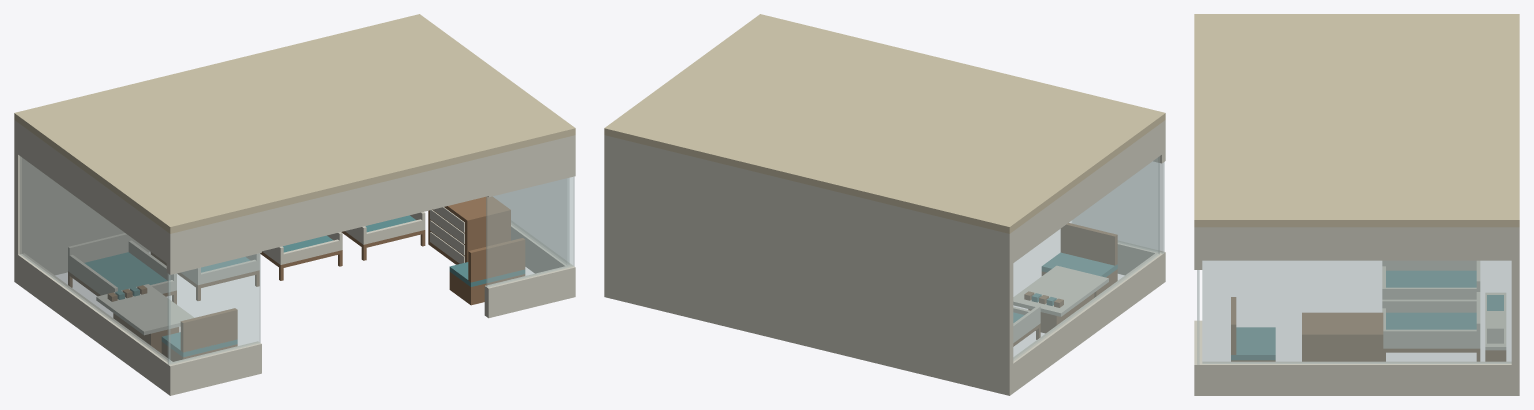
The model's file is FAMILY_CHILDCARE_r001.glb.
The picture shows the model from 3 angles, left to right: view 1: azimuth 30°, elevation 25°; view 2: azimuth 150°, elevation 25°; view 3: azimuth 270°, elevation 25°; orthographic projection. The views are drawn at different scales.
Parts seen in each view (by area): view 1: G2F_AcousticCeiling, G2F_WestSightlineGlass, G2F_DoorHeader, G2F_ArrivalLeftGlass, G2F_ArrivalRightGlass, G2F_ForeAcousticWall, G2F_WestPlinth, G2F_WestHighAcoustic, G2F_ArrivalLeftHeader, G2F_EastSightlineGlass, G2F_ArrivalRightHeader, G2F_ArrivalLeftPlinth (+17 smaller); view 2: G2F_ForeAcousticWall, G2F_AcousticCeiling, G2F_WestSightlineGlass, G2F_WestPlinth, G2F_WestHighAcoustic, G2F_ArrivalLeftGlass, G2F_LearningTop, G2F_Caregiver0Back, G2F_ArrivalLeftPlinth, G2F_Caregiver0Pad, G2F_Rest0Side0, G2F_LearningPedestal; view 3: G2F_AcousticCeiling, G2F_EastSightlineGlass, G2F_EastPlinth, G2F_EastHighAcoustic, G2F_PersonalStock, G2F_Rest3Side1, G2F_Rest2DayPad, G2F_Rest3DayPad, G2F_ForeAcousticWall, G2F_Caregiver1Pad, G2F_Rest3Side0, G2F_Rest2Side1 (+7 smaller).
Boxes of the visible parts, x1,y1,x2,y2 form: G2F_AcousticCeiling: [14, 14, 575, 233]; G2F_WestSightlineGlass: [20, 156, 170, 361]; G2F_DoorHeader: [262, 156, 488, 251]; G2F_ArrivalLeftGlass: [167, 253, 260, 364]; G2F_ArrivalRightGlass: [486, 176, 574, 287]; G2F_ForeAcousticWall: [14, 120, 150, 283]; G2F_WestPlinth: [18, 253, 172, 392]; G2F_WestHighAcoustic: [18, 123, 166, 262]; G2F_ArrivalLeftHeader: [166, 211, 261, 274]; G2F_EastSightlineGlass: [493, 178, 569, 265]; G2F_ArrivalRightHeader: [487, 135, 575, 197]; G2F_ArrivalLeftPlinth: [166, 341, 261, 395]; G2F_ForeAcousticWall: [604, 135, 1013, 395]; G2F_AcousticCeiling: [604, 14, 1165, 233]; G2F_WestSightlineGlass: [1013, 156, 1159, 360]; G2F_WestPlinth: [1013, 253, 1161, 392]; G2F_WestHighAcoustic: [1013, 123, 1161, 262]; G2F_ArrivalLeftGlass: [1072, 162, 1164, 253]; G2F_LearningTop: [1013, 266, 1108, 316]; G2F_Caregiver0Back: [1060, 223, 1117, 265]; G2F_ArrivalLeftPlinth: [1117, 241, 1165, 283]; G2F_Caregiver0Pad: [1041, 252, 1117, 277]; G2F_Rest0Side0: [1013, 306, 1040, 342]; G2F_LearningPedestal: [1028, 293, 1094, 333]; G2F_AcousticCeiling: [1194, 14, 1519, 227]; G2F_EastSightlineGlass: [1202, 260, 1511, 363]; G2F_EastPlinth: [1202, 361, 1511, 395]; G2F_EastHighAcoustic: [1202, 227, 1511, 260]; G2F_PersonalStock: [1302, 312, 1383, 361]; G2F_Rest3Side1: [1383, 329, 1480, 348]; G2F_Rest2DayPad: [1386, 270, 1476, 287]; G2F_Rest3DayPad: [1386, 312, 1476, 329]; G2F_ForeAcousticWall: [1511, 227, 1519, 395]; G2F_Caregiver1Pad: [1231, 327, 1275, 360]; G2F_Rest3Side0: [1382, 299, 1476, 312]; G2F_Rest2Side1: [1382, 287, 1479, 299].
Size of the model in its own units: 9.3 by 3.7 by 6.2.
